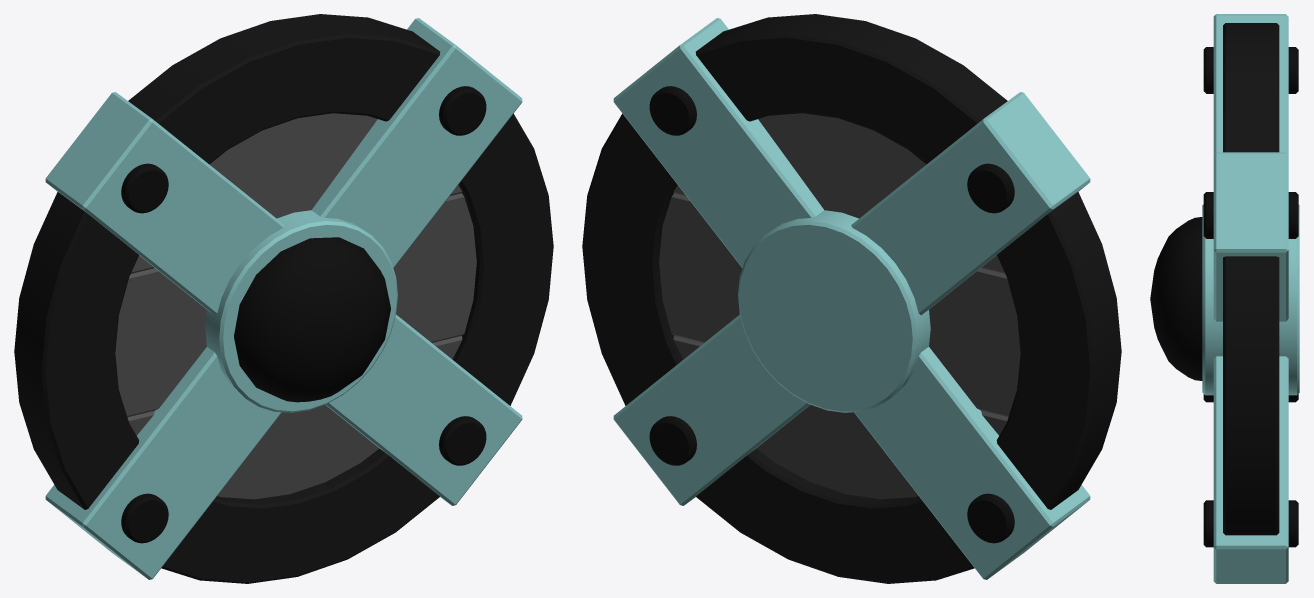
Rendered from Shield.fbx.
3 views of the same model, side by side, from view 1: azimuth 30°, elevation 25°; view 2: azimuth 150°, elevation 25°; view 3: azimuth 270°, elevation 25° (orthographic). The views are drawn at different scales.
Visible parts, largest first — view 1: Cylinder; view 2: Cylinder; view 3: Cylinder.
Part boxes in pixels (<box>): Cylinder: <box>14,14,553,583</box>; Cylinder: <box>582,14,1121,583</box>; Cylinder: <box>1150,14,1299,583</box>.
Bounding box in the file's own units: 137 × 137 × 37.06.
